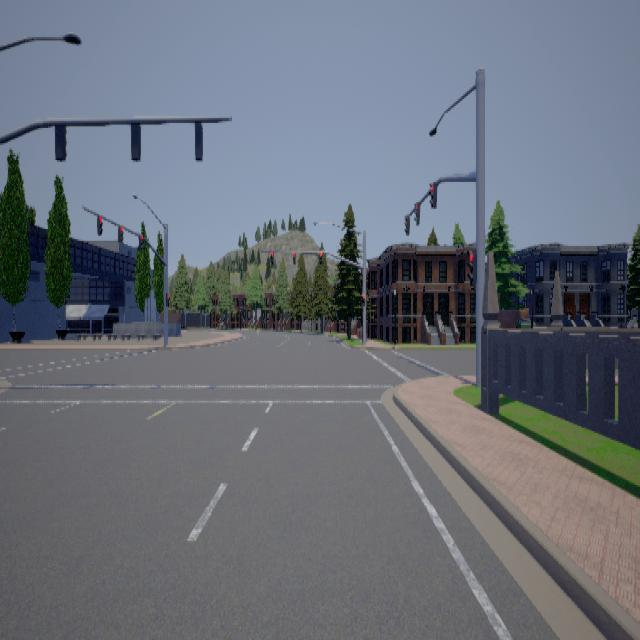red_light: (466, 248, 476, 284), (428, 180, 436, 207), (413, 200, 419, 224), (403, 214, 409, 234), (97, 214, 103, 234), (118, 224, 124, 242), (138, 234, 144, 249), (166, 293, 170, 307), (292, 252, 296, 264), (270, 251, 274, 263), (363, 294, 365, 306), (320, 252, 322, 264)
